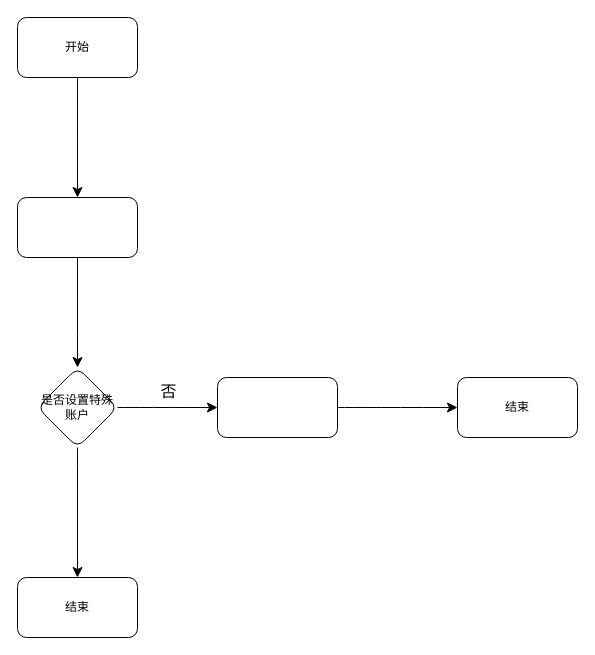
This 595x655 diagram has some shape labels left out. Each missing label, with the box of its shape:
lark告警: (216, 376, 338, 438)
查询已上线项目: (16, 196, 138, 258)
